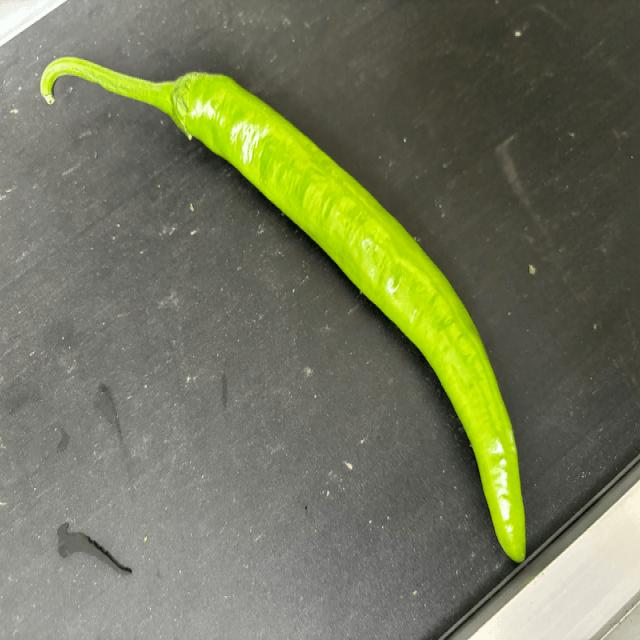chili: (169, 68, 527, 562)
